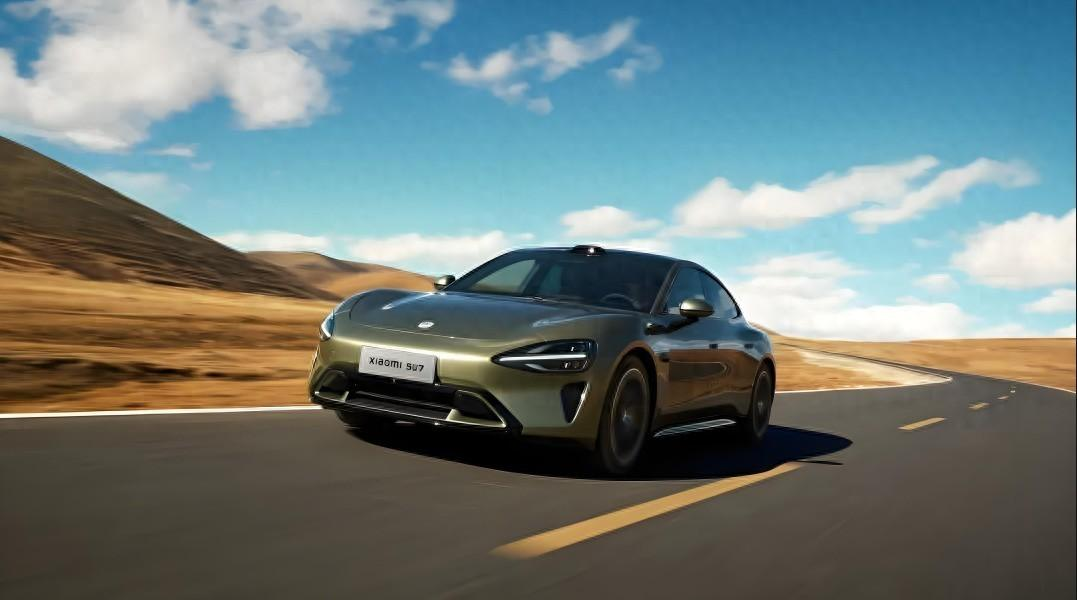su7: (307, 236, 773, 467)
